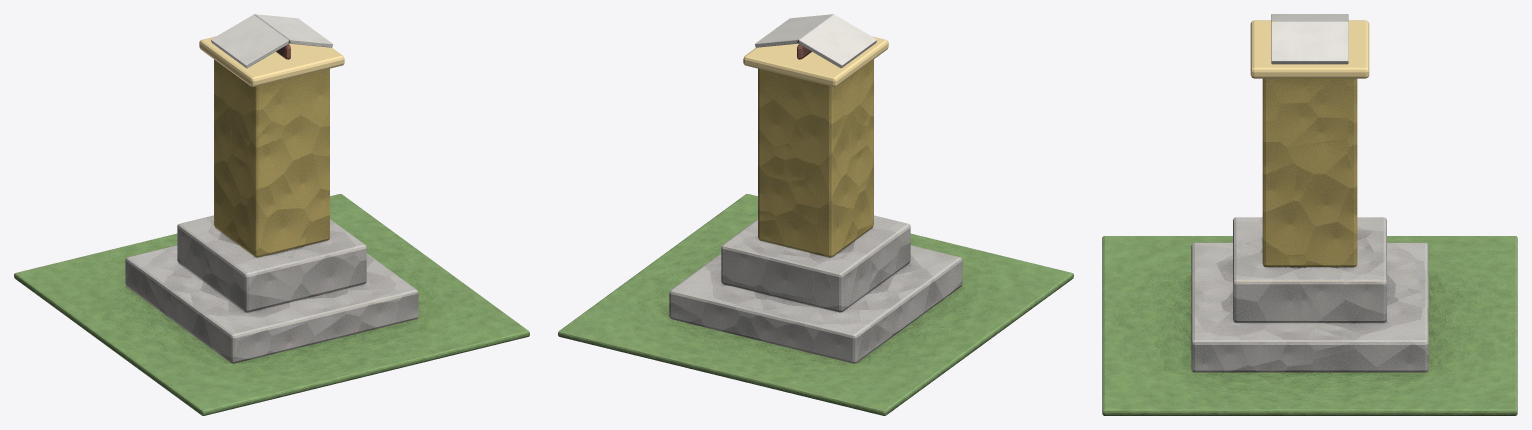
The model's file is buch_klassiker.glb.
3 renders of one model, left to right at view 1: azimuth 30°, elevation 25°; view 2: azimuth 150°, elevation 25°; view 3: azimuth 270°, elevation 25°, orthographic. The views are drawn at different scales.
Visible parts, largest first — view 1: buch_klassiker, buch_klassiker_details; view 2: buch_klassiker, buch_klassiker_details; view 3: buch_klassiker, buch_klassiker_details.
Part boxes in pixels (box(x1,y1,x2,y2)): buch_klassiker: box(14, 14, 529, 415); buch_klassiker_details: box(199, 36, 344, 86); buch_klassiker: box(558, 14, 1073, 415); buch_klassiker_details: box(743, 36, 888, 86); buch_klassiker: box(1102, 14, 1517, 415); buch_klassiker_details: box(1250, 20, 1369, 78).
Bounding box in the file's own units: 0.7 × 0.5729 × 0.7.
Materials: 2 (1 with a texture image).
